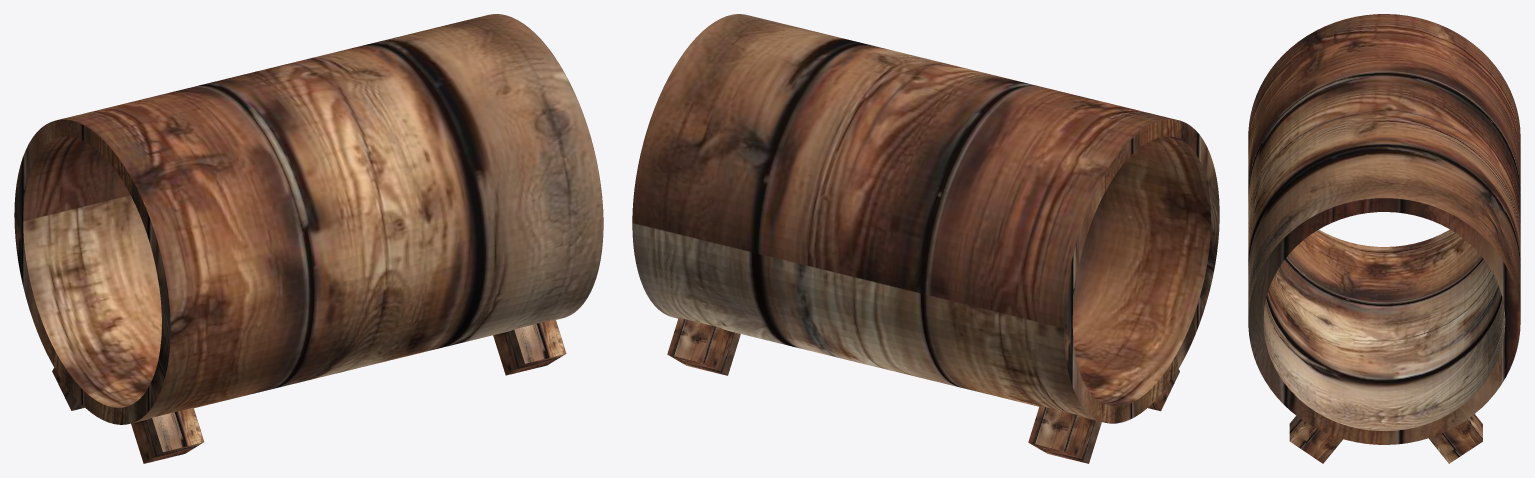
The model's file is Putkieste3D.glb.
The picture shows the model from 3 angles, left to right: view 1: azimuth 30°, elevation 25°; view 2: azimuth 150°, elevation 25°; view 3: azimuth 270°, elevation 25°; orthographic projection. The views are drawn at different scales.
Parts seen in each view (by area): view 1: Cylinder; view 2: Cylinder; view 3: Cylinder.
Boxes of the visible parts, x1,y1,x2,y2 form: Cylinder: [14, 14, 603, 463]; Cylinder: [632, 14, 1219, 463]; Cylinder: [1248, 14, 1520, 463].
Size of the model in its own units: 0.8025 by 0.5516 by 0.5014.
1 material, 1 textured.
